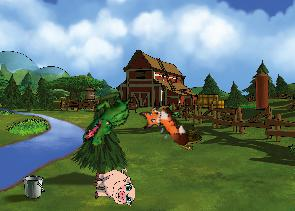crocodile: (80, 85, 135, 153)
fox: (135, 96, 192, 158)
pig: (93, 168, 135, 206)
